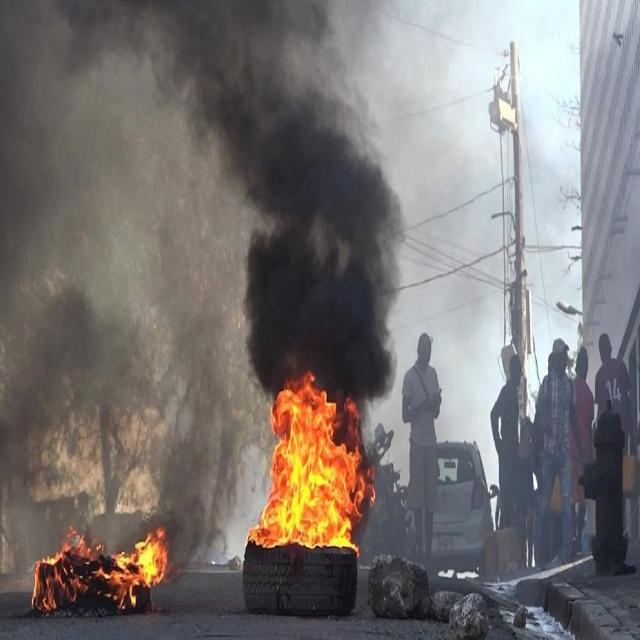fire: (245, 370, 375, 558), (31, 525, 169, 611)
